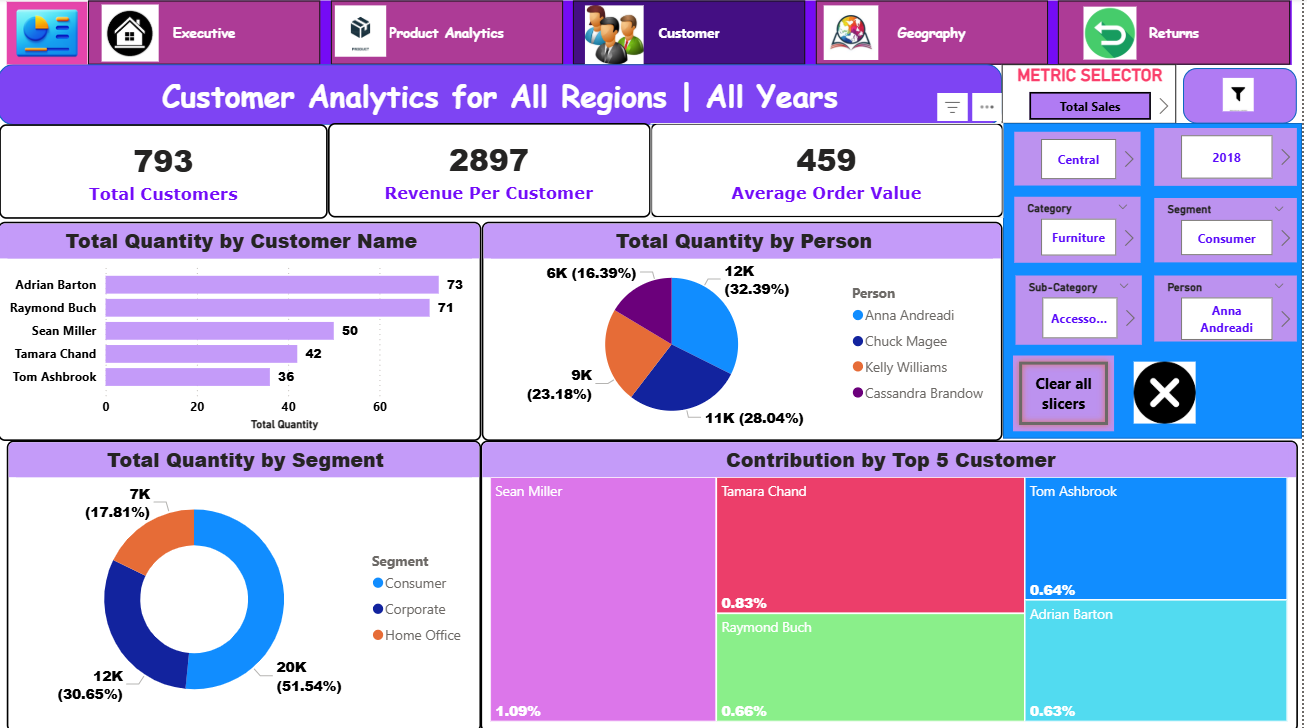

The page's visual inventory and layout, read from the dashboard file:
{"tool":"powerbi","page":{"name":"Customer","canvas":[1280,720],"ordinal":2},"visuals":[{"type":"pageNavigator","box":[88.3,2.8,1181.9,63.1],"z":0},{"type":"shape","box":[986.1,123.1,293.6,309.9],"z":0,"group":"g1"},{"type":"shape","box":[0,64.5,985.6,59.6],"z":1000},{"type":"slicer","fields":{"Values":["Orders.Region"]},"box":[996.8,132,124.1,53.1],"z":1000,"group":"g1"},{"type":"image","box":[8.2,4.1,79.6,61.7],"z":2000},{"type":"slicer","fields":{"Values":["Date Table.Date.Variation.Date Hierarchy.Year"]},"box":[1134.2,128.2,140.1,56.9],"z":2000,"group":"g1"},{"type":"slicer","title":"METRIC SELECTOR","fields":{"Values":["Parameter.Parameter"]},"box":[985.6,64.5,171.3,58.3],"z":3000},{"type":"slicer","fields":{"Values":["Orders.Category"]},"box":[996.8,195.2,124.1,64.5],"z":3000,"group":"g1"},{"type":"shape","box":[1163.1,68.3,111.7,54.6],"z":4000},{"type":"slicer","fields":{"Values":["Orders.Segment"]},"box":[1134.2,196.5,140.1,63.2],"z":4000,"group":"g1"},{"type":"image","box":[1174.3,73.2,85.6,42.2],"z":5000},{"type":"slicer","fields":{"Values":["Orders.Sub-Category"]},"box":[998.1,272.4,124.1,68.3],"z":5000,"group":"g1"},{"type":"image","box":[97.4,0,65.9,68.6],"z":6000},{"type":"slicer","fields":{"Values":["People.Person"]},"box":[1134.2,272.4,140.1,64.5],"z":6000,"group":"g1"},{"type":"image","box":[319.7,2.7,71.4,60.4],"z":7000},{"type":"image","box":[1090.2,352.1,108.1,70.8],"z":7000,"group":"g1"},{"type":"image","box":[570.8,2.7,68.6,67.2],"z":8000},{"type":"actionButton","box":[995.7,351.8,99.3,74.2],"z":8000,"group":"g1"},{"type":"image","box":[805.5,2.7,64.5,63.1],"z":9000},{"type":"image","box":[1049.7,4.1,82.3,61.7],"z":10000},{"type":"group","id":"g1","title":"Filter Pane","box":[986.1,123.1,293.6,309.9],"z":11000},{"type":"card","fields":{"Values":["Measure.Total Customers"]},"box":[1.2,124.1,322.7,93.1],"z":12000},{"type":"card","fields":{"Values":["Measure.Revenue Per Customer"]},"box":[324,122.9,316.5,93.1],"z":13000},{"type":"card","fields":{"Values":["Measure.Average Order Value"]},"box":[640.5,122.9,346.3,93.1],"z":14000},{"type":"treemap","title":"Contribution by Top 5 Customer","fields":{"Values":["Measure.Customer Contribution %"],"Group":["Orders.Customer Name"]},"box":[473,434.5,802.2,286.2],"z":15000},{"type":"donutChart","fields":{"Y":["Measure.Total Quantity"],"Category":["Orders.Segment"]},"box":[8.9,434.5,465.6,286.2],"z":16000},{"type":"pieChart","fields":{"Y":["Measure.Total Quantity"],"Category":["People.Person"]},"box":[474.5,219.5,511.6,215],"z":17000},{"type":"barChart","fields":{"Y":["Measure.Total Quantity"],"Category":["Orders.Customer Name"]},"box":[0,219.5,474.5,215],"z":18000}]}

Visuals, with their boxes in screenshot pixels (x1, y1, x2, y2), scaled from the page's 1280x720 canvas onto the 1307x728 screenshot:
pageNavigator: [left=90, top=3, right=1297, bottom=67]
shape: [left=1007, top=124, right=1306, bottom=438]
shape: [left=0, top=65, right=1006, bottom=125]
slicer - Orders.Region: [left=1018, top=133, right=1145, bottom=187]
image: [left=8, top=4, right=90, bottom=67]
slicer - Date Table.Date.Variation.Date Hierarchy.Year: [left=1158, top=130, right=1301, bottom=187]
"METRIC SELECTOR" slicer: [left=1006, top=65, right=1181, bottom=124]
slicer - Orders.Category: [left=1018, top=197, right=1145, bottom=263]
shape: [left=1188, top=69, right=1302, bottom=124]
slicer - Orders.Segment: [left=1158, top=199, right=1301, bottom=263]
image: [left=1199, top=74, right=1286, bottom=117]
slicer - Orders.Sub-Category: [left=1019, top=275, right=1146, bottom=344]
image: [left=99, top=0, right=167, bottom=69]
slicer - People.Person: [left=1158, top=275, right=1301, bottom=341]
image: [left=326, top=3, right=399, bottom=64]
image: [left=1113, top=356, right=1224, bottom=428]
image: [left=583, top=3, right=653, bottom=71]
actionButton: [left=1017, top=356, right=1118, bottom=431]
image: [left=822, top=3, right=888, bottom=67]
image: [left=1072, top=4, right=1156, bottom=67]
"Filter Pane" group: [left=1007, top=124, right=1306, bottom=438]
card - Measure.Total Customers: [left=1, top=125, right=331, bottom=220]
card - Measure.Revenue Per Customer: [left=331, top=124, right=654, bottom=218]
card - Measure.Average Order Value: [left=654, top=124, right=1008, bottom=218]
"Contribution by Top 5 Customer" treemap: [left=483, top=439, right=1302, bottom=727]
donutChart - Measure.Total Quantity x Orders.Segment: [left=9, top=439, right=485, bottom=727]
pieChart - Measure.Total Quantity x People.Person: [left=485, top=222, right=1007, bottom=439]
barChart - Measure.Total Quantity x Orders.Customer Name: [left=0, top=222, right=485, bottom=439]
